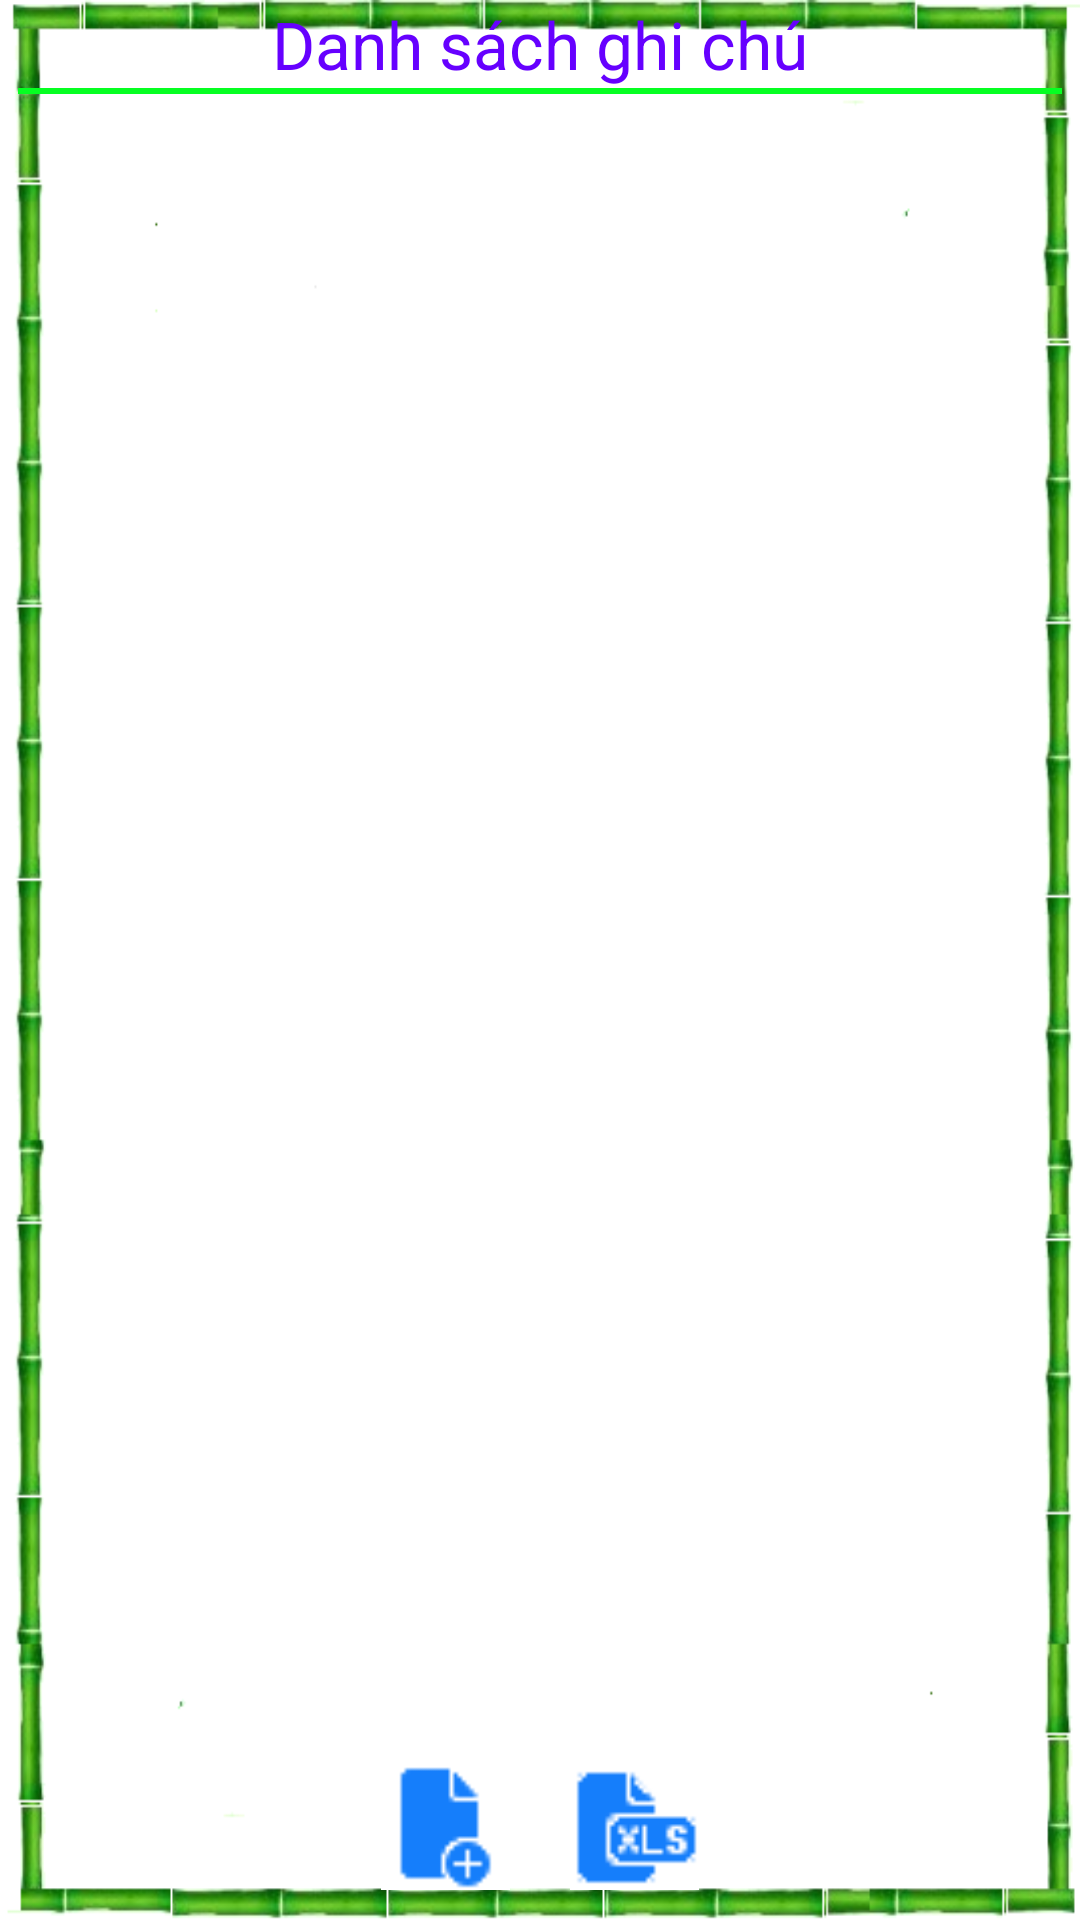

Icons on this 1080×1920 Android screen, each with the point to tap as [x,y]:
add: [445,1827]
